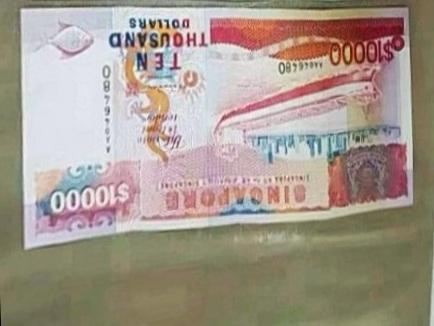10000SingaporeDollar: (28, 14, 406, 229)
